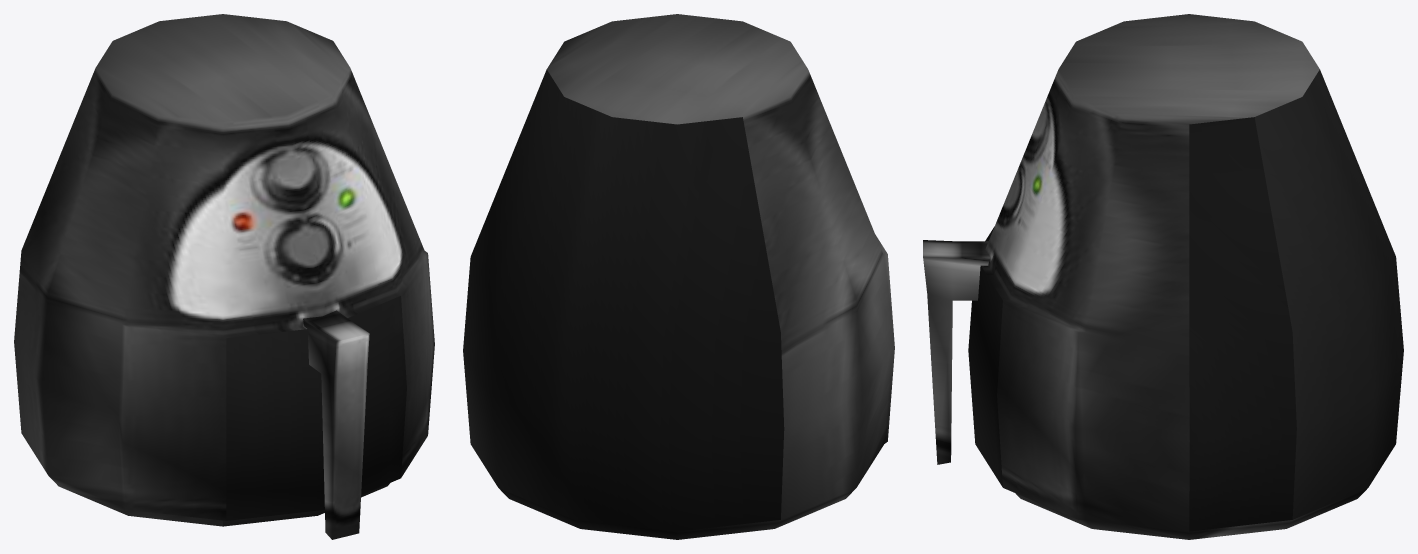
Rendered from SM_Airfryer.fbx.
3 renders of one model, left to right at view 1: azimuth 30°, elevation 25°; view 2: azimuth 150°, elevation 25°; view 3: azimuth 270°, elevation 25°, orthographic. The views are drawn at different scales.
Parts seen in each view (by area): view 1: SM_Airfryer; view 2: SM_Airfryer; view 3: SM_Airfryer.
Boxes of the visible parts, x1,y1,x2,y2 form: SM_Airfryer: (14, 14, 434, 539); SM_Airfryer: (463, 14, 894, 539); SM_Airfryer: (923, 14, 1403, 539).
Bounding box in the file's own units: 207 × 207 × 233.
